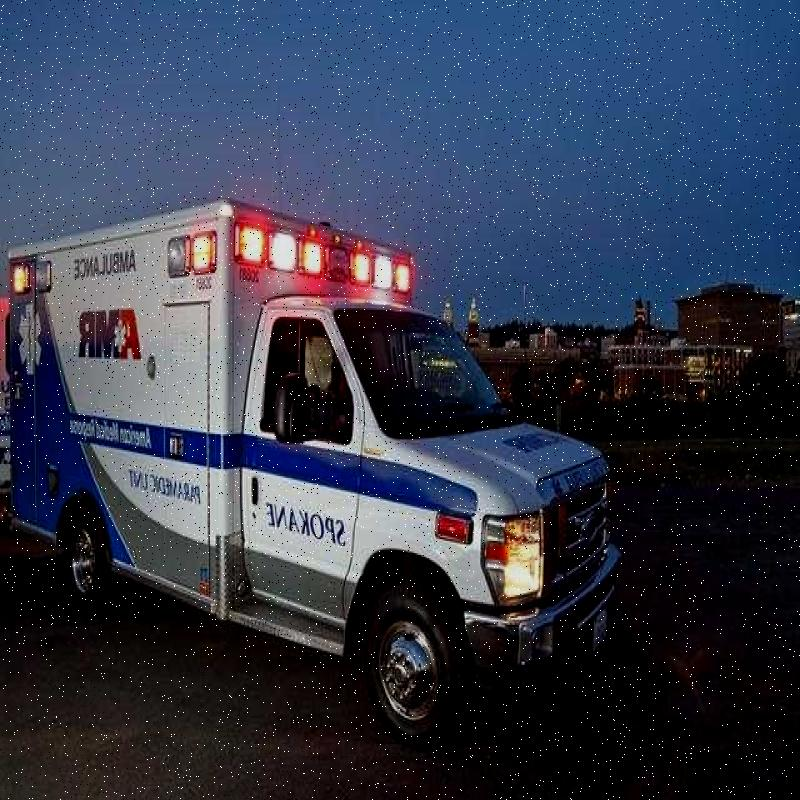AmbulanceSiren: (221, 214, 422, 302)
